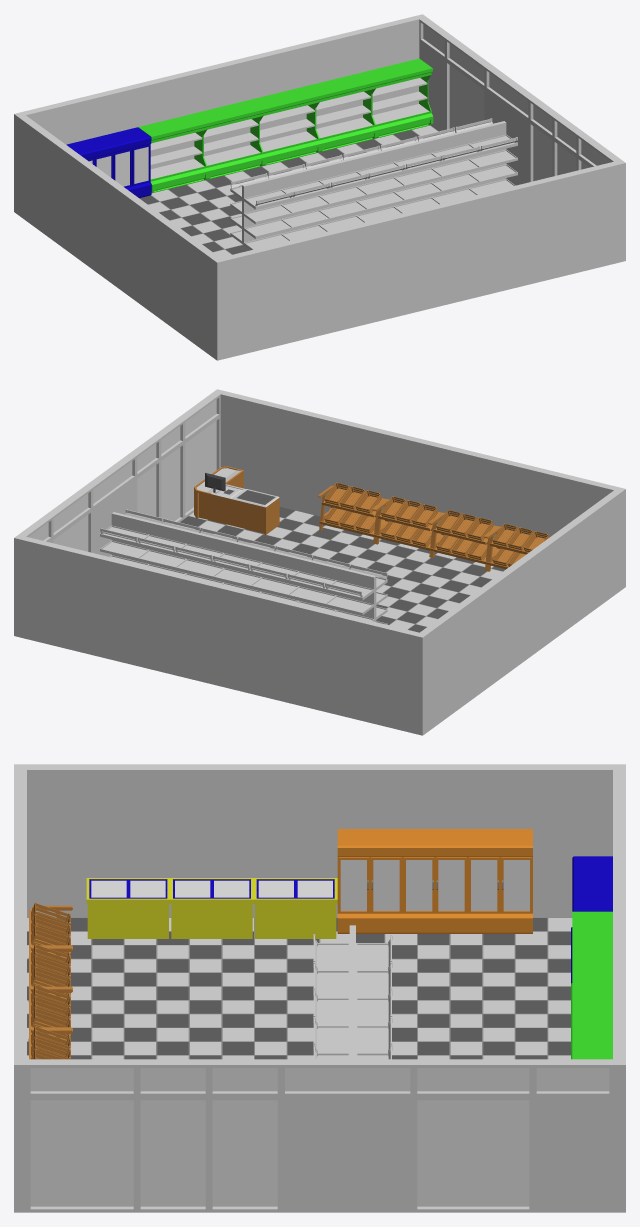
The model's file is Swalayan.fbx.
3 views of the same model, one above another, from view 1: azimuth 30°, elevation 25°; view 2: azimuth 150°, elevation 25°; view 3: azimuth 270°, elevation 25° (orthographic). The views are drawn at different scales.
Visible parts, largest first — view 1: Kasir; view 2: Kasir; view 3: Kasir.
Boxes of the visible parts, box(x1,y1,x2,y2) form: Kasir: box(14, 14, 625, 360); Kasir: box(14, 389, 625, 735); Kasir: box(14, 764, 625, 1212).
Bounding box in the file's own units: 2181 × 500 × 1878.
